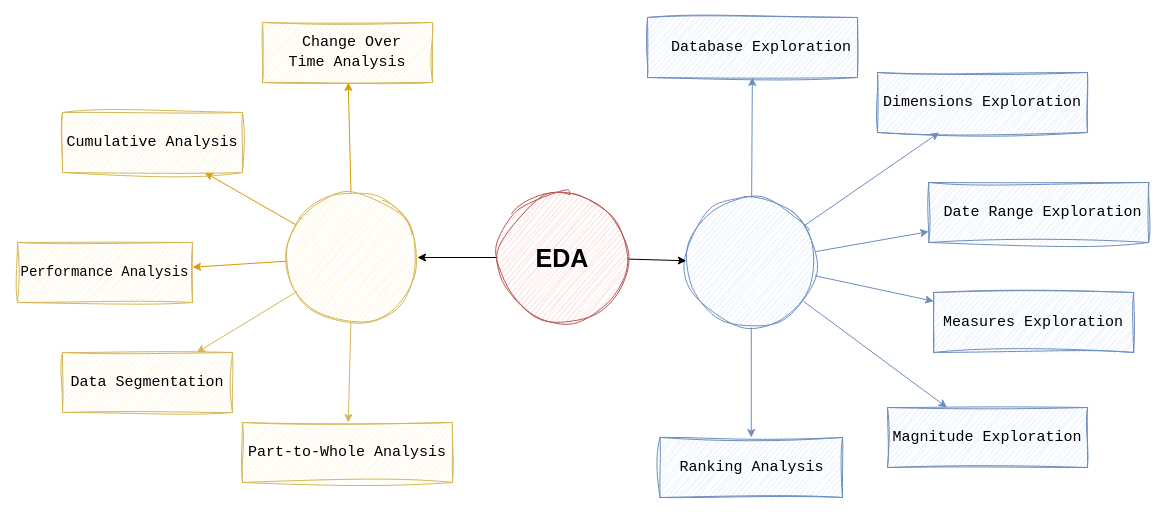
Image size: 1167x515. Some labels were removed from this diagram. Each missing label, with the centre of its shape:
"Advanced EDA" belongs at [352,257].
"Basic EDA" belongs at [750,262].
